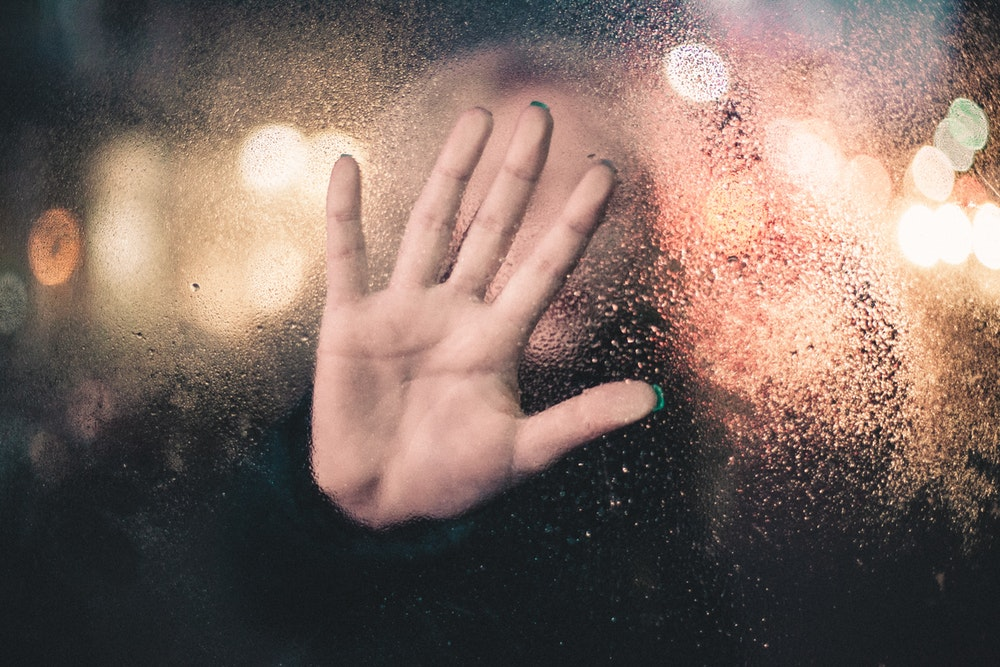palm: (314, 286, 542, 487)
